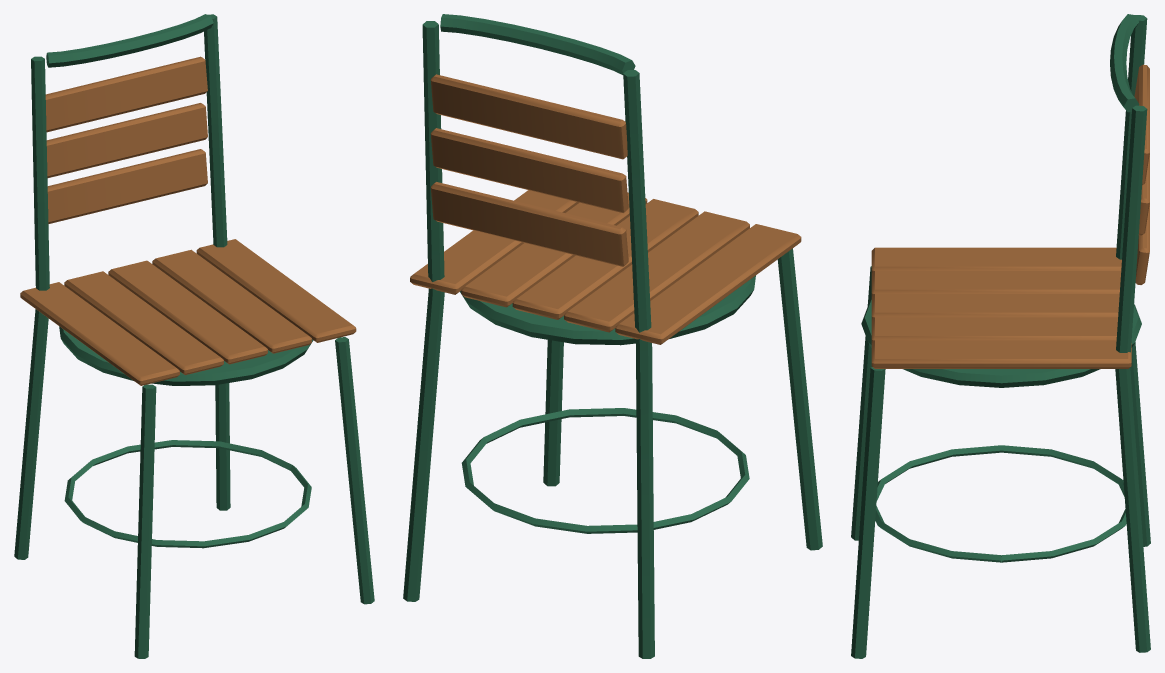
File: CafeChair.fbx
3 views of the same model, side by side, from view 1: azimuth 30°, elevation 25°; view 2: azimuth 150°, elevation 25°; view 3: azimuth 270°, elevation 25° (orthographic). The views are drawn at different scales.
Visible parts, largest first — view 1: CafeChair_Mesh; view 2: CafeChair_Mesh; view 3: CafeChair_Mesh.
Boxes of the visible parts, left/top/right/bottom form: CafeChair_Mesh: left=14, top=14, right=374, bottom=658; CafeChair_Mesh: left=403, top=14, right=822, bottom=658; CafeChair_Mesh: left=851, top=14, right=1150, bottom=658.
Bounding box in the file's own units: 0.4294 × 0.8714 × 0.438.
